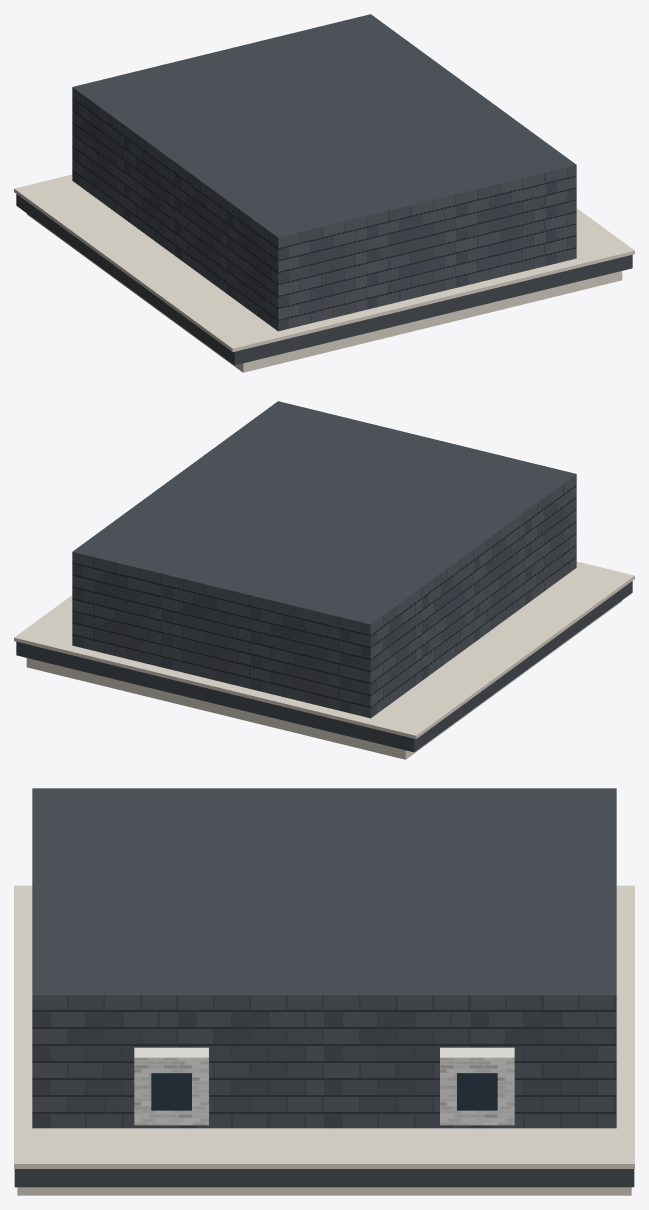
File: roof-cornice-9.obj
3 renders of one model, top to bottom at view 1: azimuth 30°, elevation 25°; view 2: azimuth 150°, elevation 25°; view 3: azimuth 270°, elevation 25°, orthographic. The views are drawn at different scales.
Visible parts, largest first — view 1: part4, part3.nocast, part2.nocast, part1.nocast; view 2: part4, part3.nocast, part2.nocast, part1.nocast; view 3: part4, part3.nocast, part2.nocast, part1.nocast, part5, part7, part6.nocast, part8.nocast.
Boxes of the visible parts, x1,y1,x2,y2 form: part4: [72, 14, 576, 331]; part3.nocast: [14, 174, 634, 351]; part2.nocast: [16, 194, 632, 365]; part1.nocast: [26, 213, 622, 372]; part4: [72, 401, 576, 718]; part3.nocast: [14, 561, 634, 738]; part2.nocast: [16, 581, 632, 752]; part1.nocast: [26, 600, 622, 759]; part4: [32, 788, 616, 1128]; part3.nocast: [14, 885, 634, 1168]; part2.nocast: [14, 1169, 634, 1187]; part1.nocast: [17, 1187, 631, 1195]; part5: [440, 1047, 514, 1125]; part7: [134, 1047, 208, 1125]; part6.nocast: [457, 1073, 497, 1110]; part8.nocast: [151, 1073, 191, 1110].
Size of the model in its own units: 9.7 by 2.8 by 9.14.
Materials: 5 (2 with a texture image).
